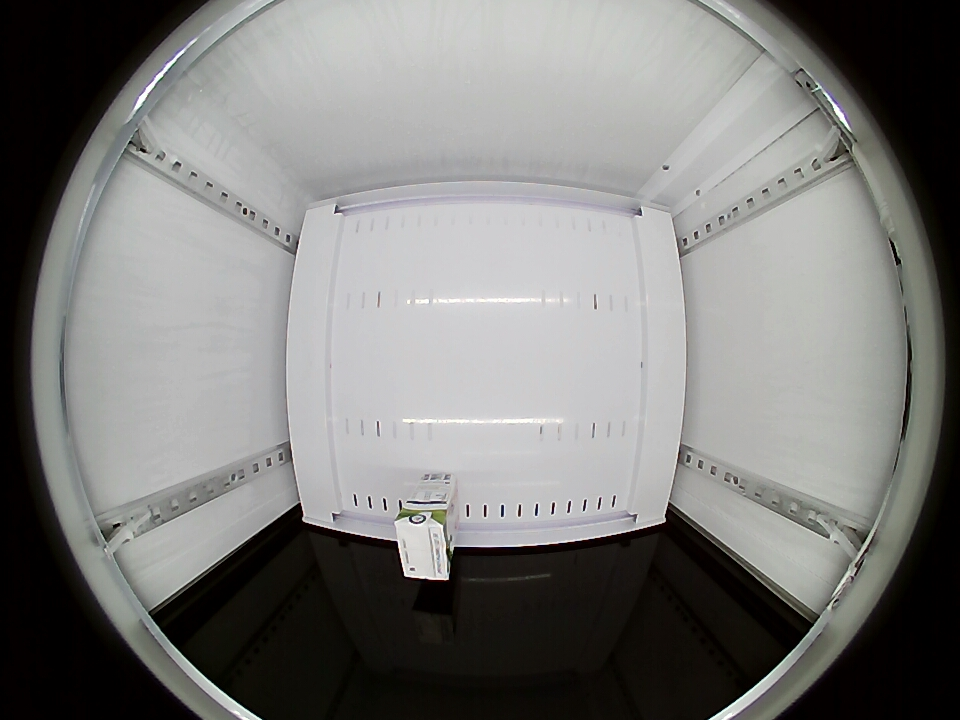mengniu: (395, 504, 454, 581)
